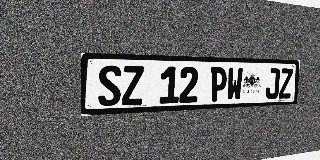1: (160, 66, 180, 104)
2: (179, 67, 198, 103)
J: (265, 68, 280, 99)
P: (210, 67, 227, 102)
S: (98, 65, 121, 107)
W: (226, 67, 243, 101)
Z: (122, 66, 144, 105), (279, 68, 293, 99)
